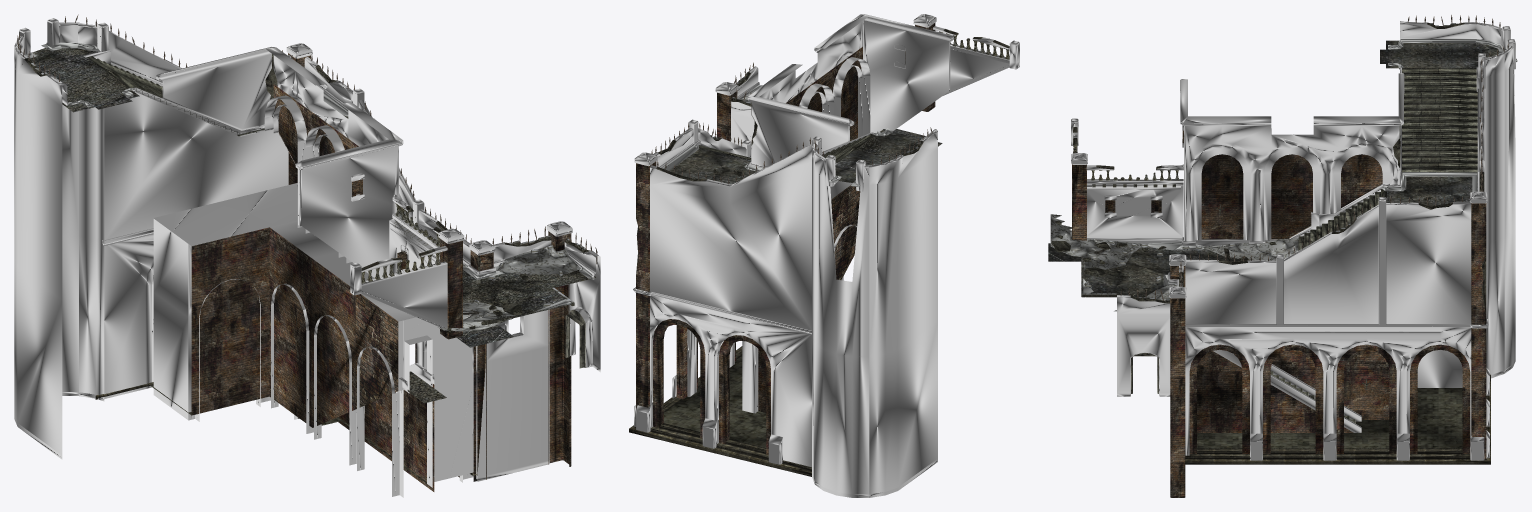
3 views of the same model, side by side, from view 1: azimuth 30°, elevation 25°; view 2: azimuth 150°, elevation 25°; view 3: azimuth 270°, elevation 25° (orthographic). The views are drawn at different scales.
Parts seen in each view (by area): view 1: mesh5, mesh10, mesh6, mesh8, mesh7, mesh11, mesh20, mesh19, mesh21, mesh14, mesh15, mesh17 (+2 smaller); view 2: mesh5, mesh6, mesh10, mesh7, mesh11, mesh8, mesh12, mesh16, mesh15, mesh4, mesh14, mesh19; view 3: mesh5, mesh7, mesh10, mesh6, mesh14, mesh11, mesh12, mesh16, mesh8, mesh20, mesh19, mesh21 (+3 smaller).
Part boxes in pixels (bbox=[...]): mesh5: bbox=[14, 18, 600, 481]; mesh10: bbox=[191, 227, 459, 491]; mesh6: bbox=[14, 47, 104, 455]; mesh8: bbox=[152, 94, 473, 497]; mesh7: bbox=[273, 53, 571, 481]; mesh11: bbox=[30, 48, 596, 347]; mesh20: bbox=[440, 249, 575, 331]; mesh19: bbox=[25, 43, 594, 311]; mesh21: bbox=[438, 247, 580, 331]; mesh14: bbox=[87, 56, 413, 374]; mesh15: bbox=[24, 54, 589, 271]; mesh17: bbox=[361, 203, 440, 283]; mesh5: bbox=[633, 14, 1019, 497]; mesh6: bbox=[812, 132, 937, 494]; mesh10: bbox=[653, 184, 860, 454]; mesh7: bbox=[636, 23, 935, 408]; mesh11: bbox=[670, 129, 942, 184]; mesh8: bbox=[651, 56, 870, 413]; mesh12: bbox=[663, 356, 766, 447]; mesh16: bbox=[629, 346, 811, 476]; mesh15: bbox=[636, 29, 1009, 275]; mesh4: bbox=[651, 62, 932, 184]; mesh14: bbox=[699, 134, 874, 162]; mesh19: bbox=[662, 85, 921, 186]; mesh5: bbox=[1071, 21, 1515, 460]; mesh7: bbox=[1072, 130, 1486, 497]; mesh10: bbox=[1189, 344, 1470, 453]; mesh6: bbox=[1484, 47, 1515, 374]; mesh14: bbox=[1270, 68, 1477, 423]; mesh11: bbox=[1048, 40, 1499, 297]; mesh12: bbox=[1197, 388, 1462, 448]; mesh16: bbox=[1185, 374, 1490, 464]; mesh8: bbox=[1087, 184, 1462, 432]; mesh20: bbox=[1052, 215, 1297, 300]; mesh19: bbox=[1083, 39, 1517, 311]; mesh21: bbox=[1050, 214, 1298, 297].
Bounding box in the file's own units: 19.75 × 19.23 × 24.94.
